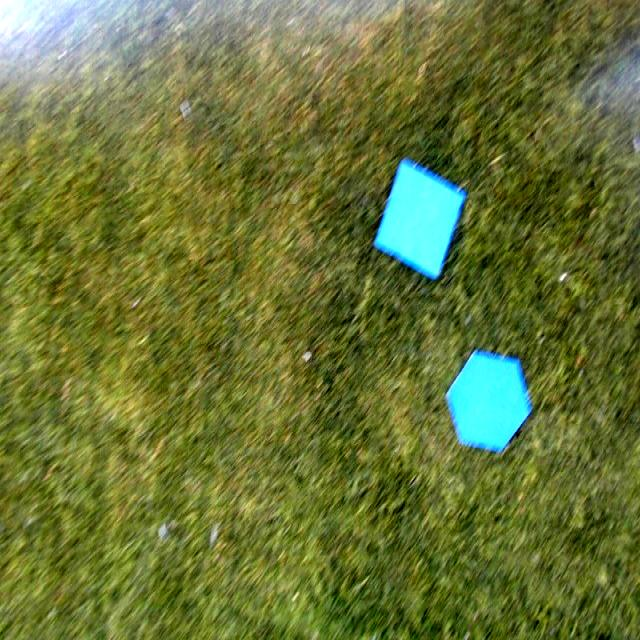blue_hexagon: (448, 353, 532, 450)
blue_square: (374, 160, 464, 278)
